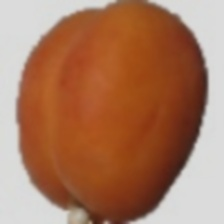apricot: (0, 25, 190, 213)
